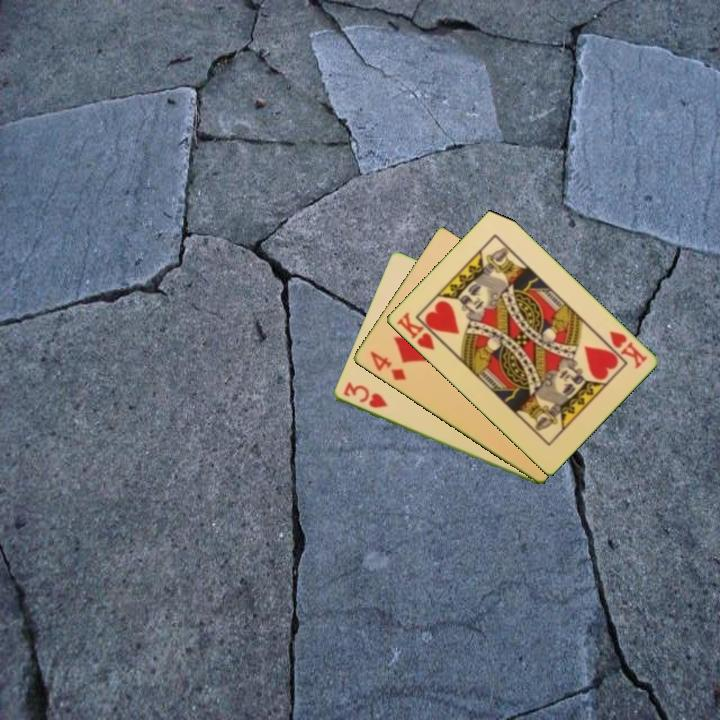3h: (339, 379, 390, 411)
4d: (366, 348, 409, 384)
Kh: (393, 309, 446, 353), (605, 327, 650, 372)
